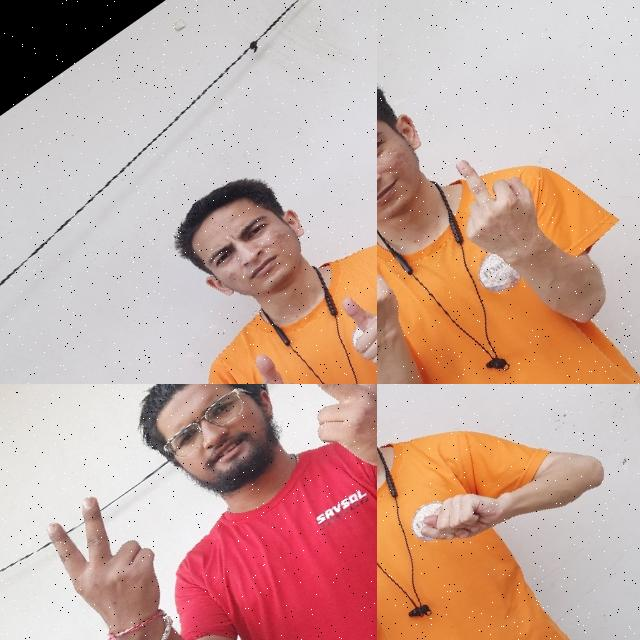Dulya: (397, 457, 522, 578)
Middle Finger: (418, 126, 568, 287), (377, 224, 424, 371)
Reversed Victory: (25, 475, 201, 640), (261, 384, 377, 504)
Thumbs Up: (323, 275, 377, 384), (212, 340, 328, 384)
